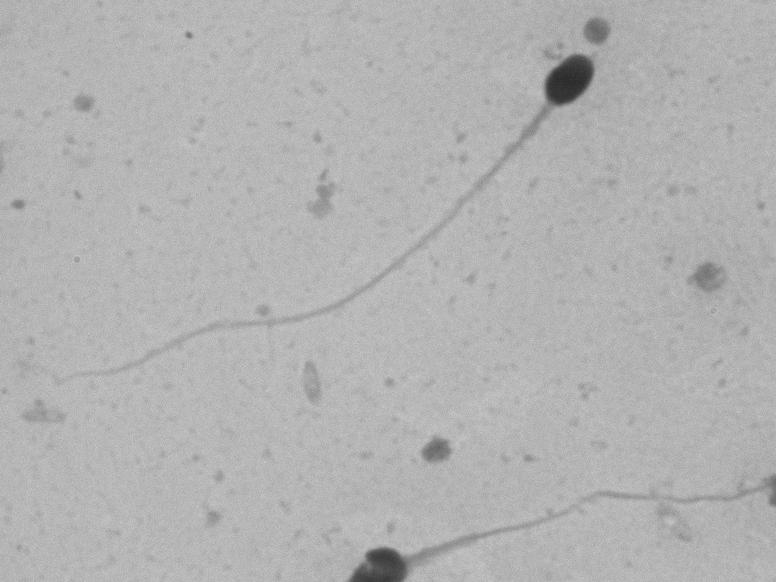Normal: (37, 36, 617, 398)
